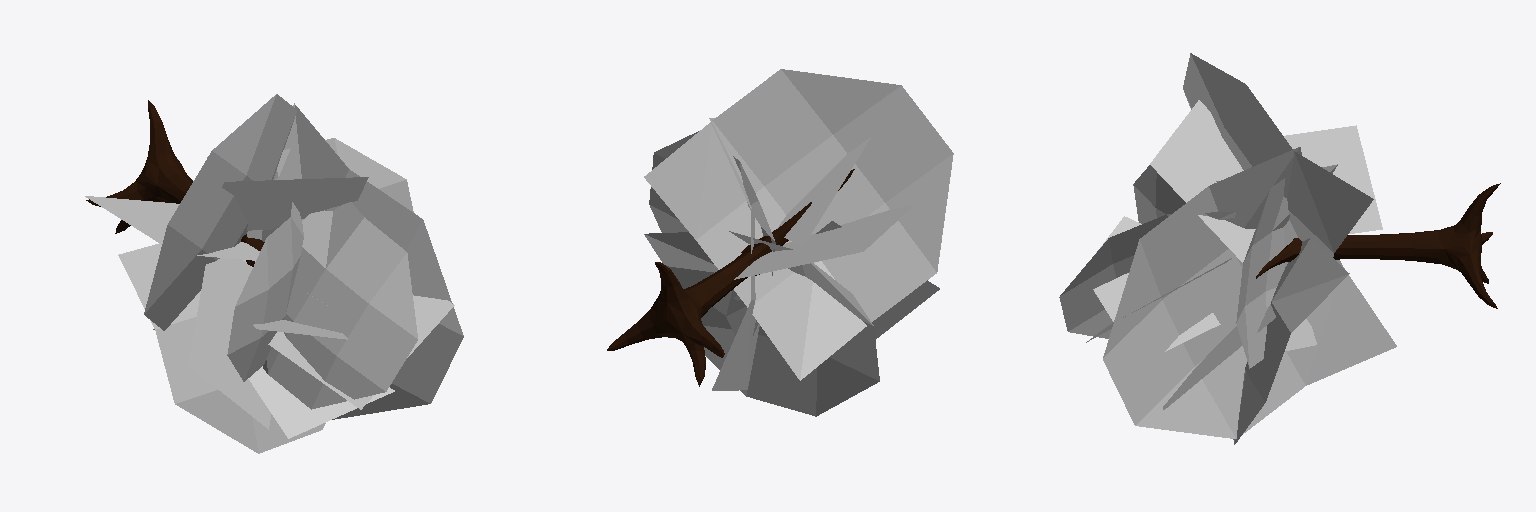
Rendered from OakTree.obj.
3 views of the same model, side by side, from view 1: azimuth 30°, elevation 25°; view 2: azimuth 150°, elevation 25°; view 3: azimuth 270°, elevation 25° (orthographic).
Visible parts, largest first — view 1: Tree; view 2: Tree; view 3: Tree.
Boxes of the visible parts, <box> form: Tree: <box>85,94,463,453</box>; Tree: <box>607,69,953,416</box>; Tree: <box>1059,53,1500,444</box>.
Size of the model in its own units: 4.49 by 5.3 by 6.1.